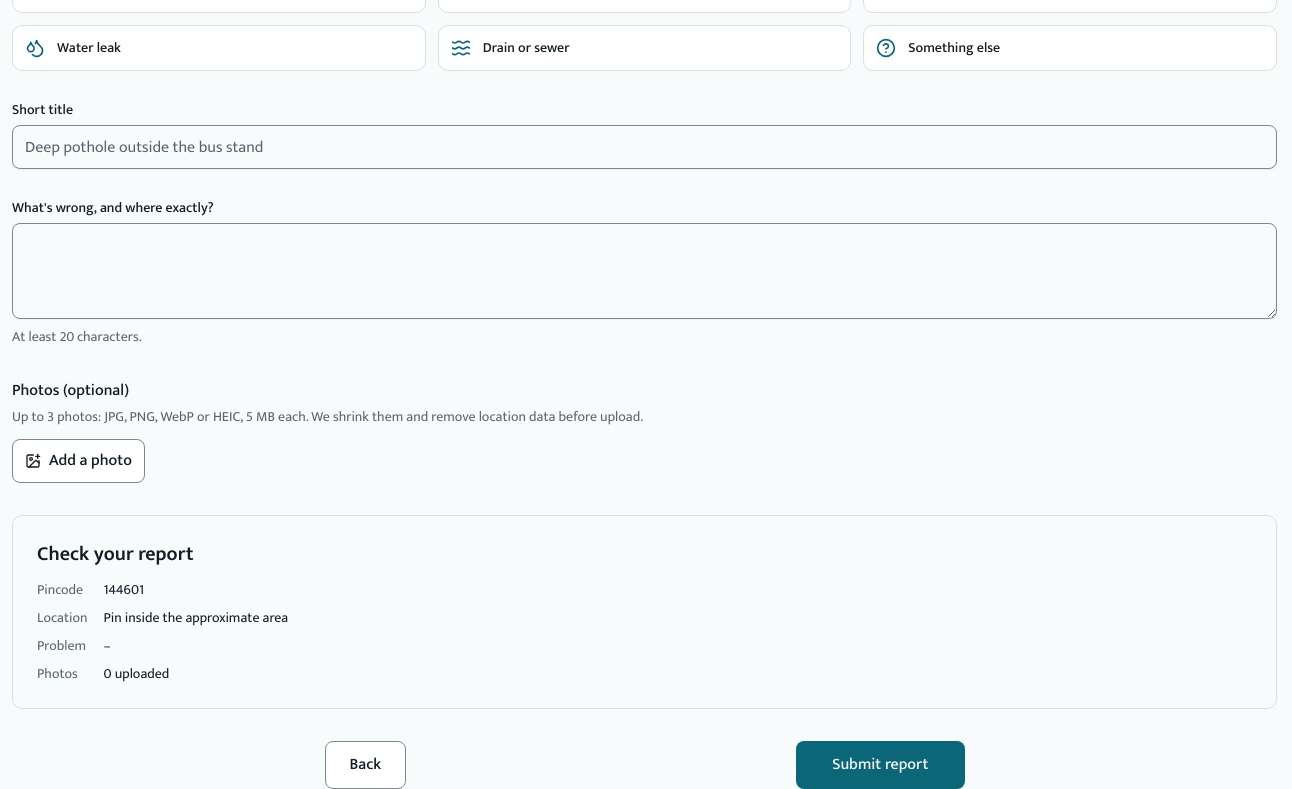
Test: Report step 3: details › submitting empty shows each problem and focuses the first
(page scrolled)
Click the button "Submit report" at (880, 765), box [796,741,964,788]
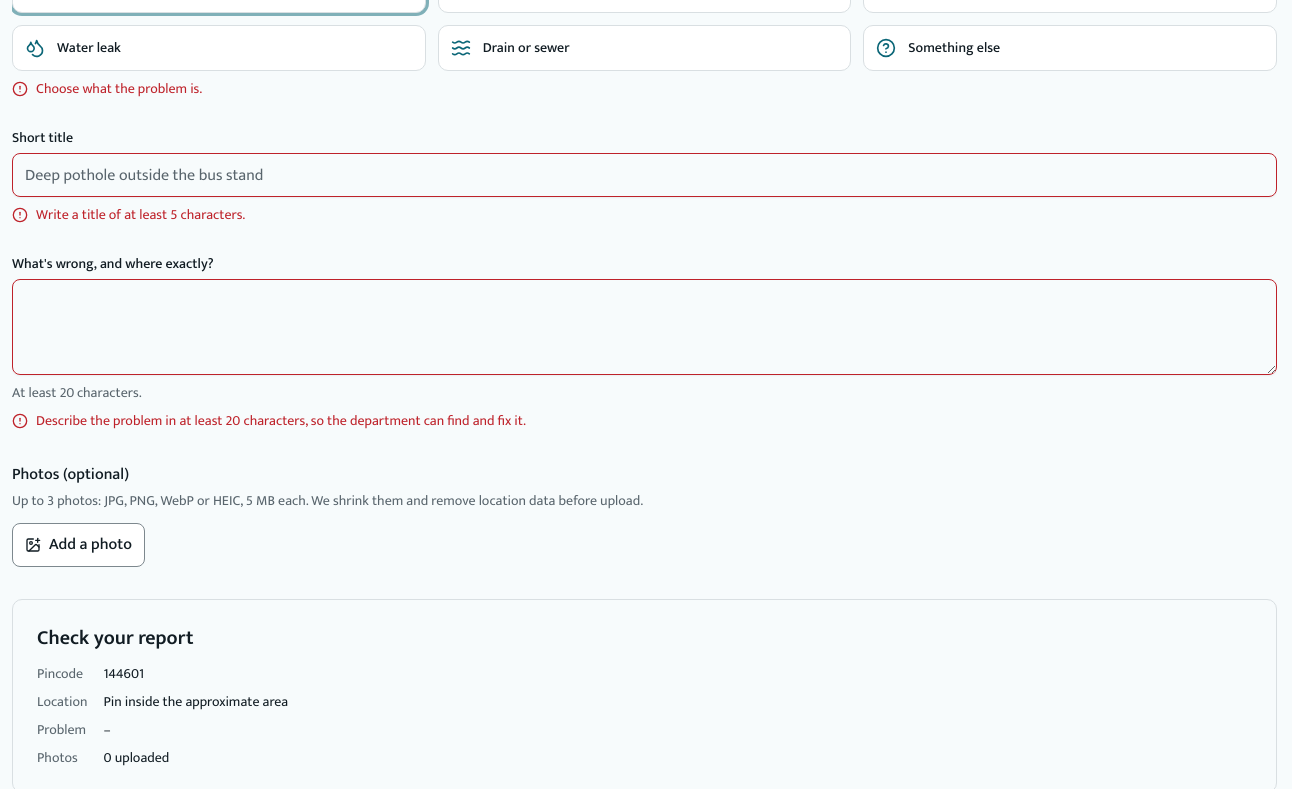
Result: the text "Choose what the problem is." is shown at [36,79,202,99]
Result: the text "Write a title of at least 5 characters." is shown at [36,205,245,225]
